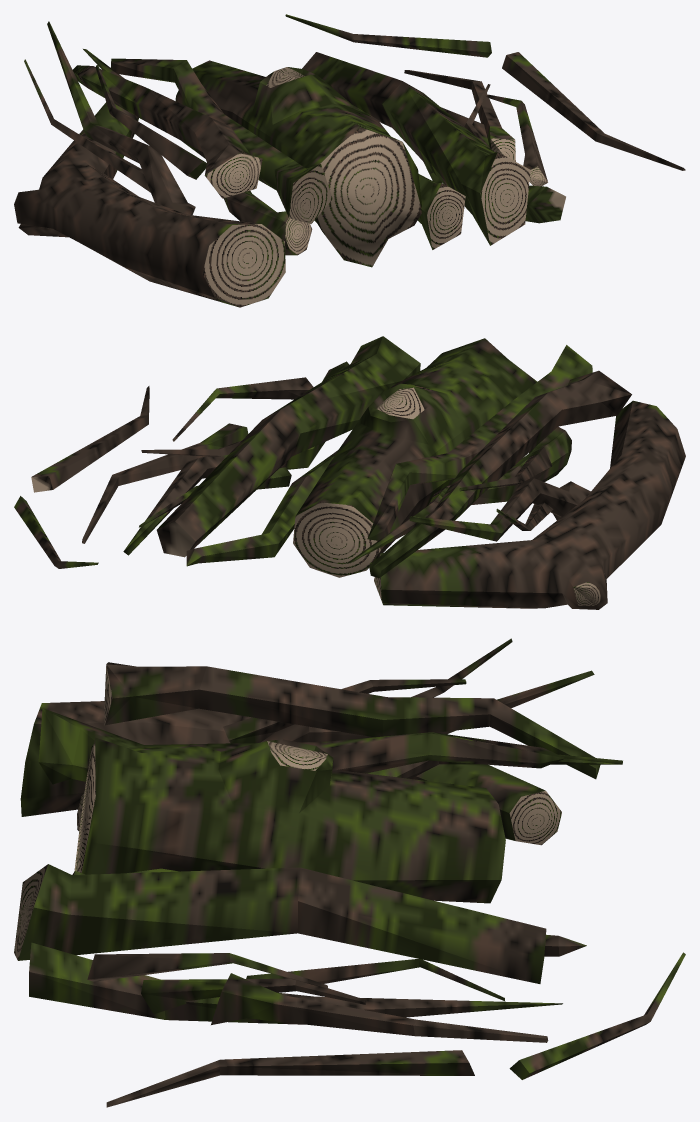
File: DeadTreeALogs.fbx
The picture shows the model from 3 angles, top to bottom: view 1: azimuth 30°, elevation 25°; view 2: azimuth 150°, elevation 25°; view 3: azimuth 270°, elevation 25°; orthographic projection. The views are drawn at different scales.
Parts seen in each view (by area): view 1: DeadTreeALogs2, DeadTreeALogs3, DeadTreeALogs1; view 2: DeadTreeALogs2, DeadTreeALogs1, DeadTreeALogs3; view 3: DeadTreeALogs3, DeadTreeALogs1, DeadTreeALogs2.
Part boxes in pixels (x1,y1,x2,y2): DeadTreeALogs2: [14, 21, 332, 307]; DeadTreeALogs3: [285, 14, 685, 245]; DeadTreeALogs1: [175, 60, 465, 267]; DeadTreeALogs2: [348, 345, 685, 609]; DeadTreeALogs1: [186, 338, 537, 577]; DeadTreeALogs3: [14, 336, 420, 568]; DeadTreeALogs3: [14, 864, 685, 1107]; DeadTreeALogs1: [72, 729, 586, 956]; DeadTreeALogs2: [20, 638, 622, 845].
Bounding box in the file's own units: 4.95 × 1.23 × 3.98.
